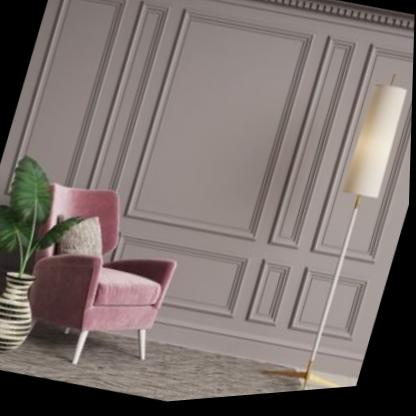Futec frame: (93, 0, 320, 341), (279, 35, 415, 367), (237, 32, 362, 346), (0, 0, 138, 221), (80, 0, 176, 218)
